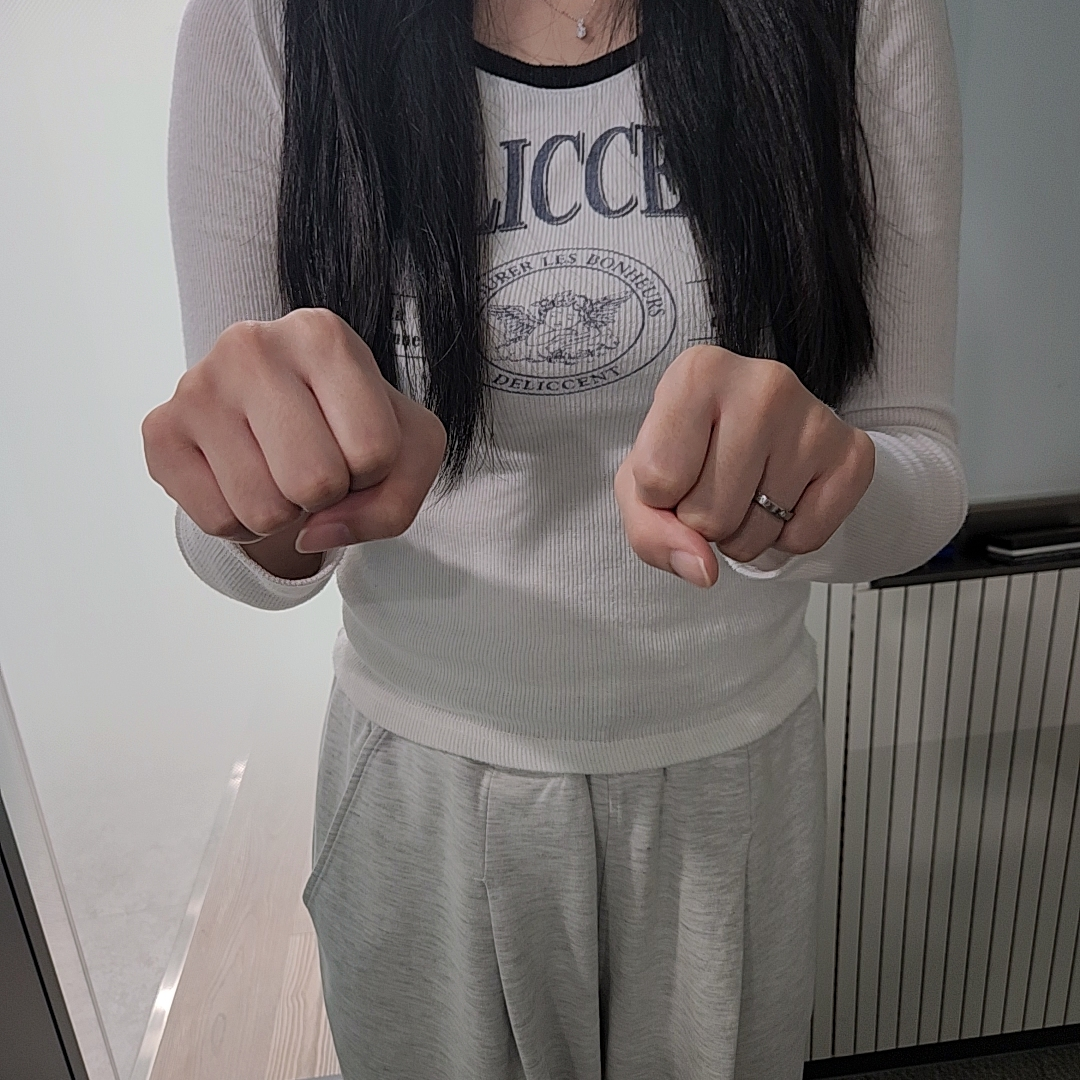hello: (140, 302, 875, 586)
